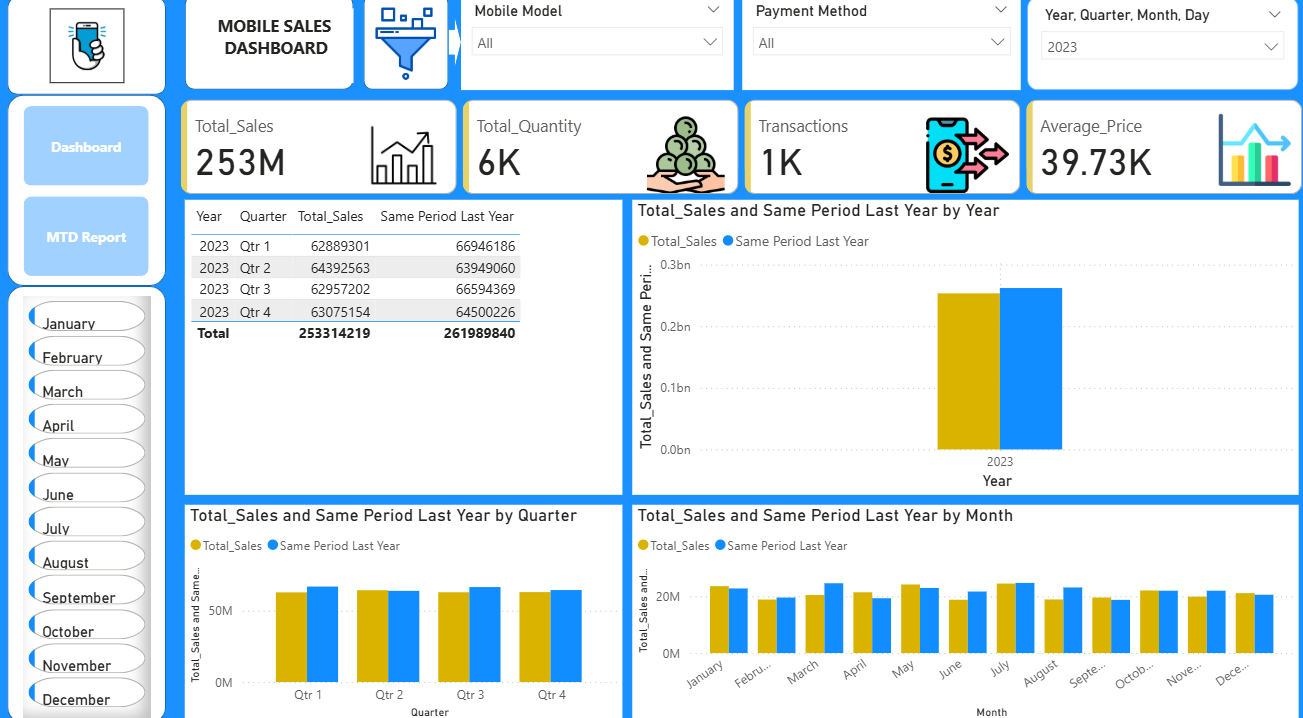

The dashboard page shown, as its layout file describes it:
{"tool":"powerbi","page":{"name":"Same Period Last Year","canvas":[1280,720],"ordinal":2},"visuals":[{"type":"shape","box":[15.7,10.9,153.2,94.1],"z":0},{"type":"image","box":[56.7,21.7,72.4,72.4],"z":1000},{"type":"shape","box":[15.7,105,153.2,184.6],"z":2000},{"type":"cardVisual","fields":{"Data":["Sales_Data.Total_Sales","Sales_Data.Total_Quantity","Sales_Data.Transactions","Sales_Data.Average_Price"]},"box":[178.6,105,1093,101.3],"z":3000},{"type":"slicer","fields":{"Values":["Sales_Data.Mobile Model"]},"box":[453.6,10.9,263,89.3],"z":4000},{"type":"slicer","fields":{"Values":["Sales_Data.Payment Method"]},"box":[725.1,10.9,269,89.3],"z":5000},{"type":"slicer","fields":{"Values":["Custom_Calendar.Date.Variation.Date Hierarchy.Year","Custom_Calendar.Date.Variation.Date Hierarchy.Quarter","Custom_Calendar.Date.Variation.Date Hierarchy.Month","Custom_Calendar.Date.Variation.Date Hierarchy.Day"]},"box":[1000.1,10.9,261.8,89.3],"z":6000},{"type":"shape","box":[359.5,8.4,82,91.7],"z":7000},{"type":"image","box":[359.5,10.9,82,89.3],"z":8000},{"type":"shape","box":[441.6,30.2,12.1,48.3],"z":9000},{"type":"shape","box":[187,8.4,162.9,91.7],"z":10000},{"type":"textbox","box":[200.3,21.7,149.6,72.4],"z":11000},{"type":"shape","box":[15.7,289.5,153.2,422.3],"z":13000},{"type":"advancedSlicerVisual","fields":{"Values":["Custom_Calendar.Date.Variation.Date Hierarchy.Month"]},"box":[31.4,299.2,123.1,412.6],"z":14000},{"type":"tableEx","fields":{"Values":["Custom_Calendar.Date.Variation.Date Hierarchy.Year","Custom_Calendar.Date.Variation.Date Hierarchy.Quarter","Sales_Data.Total_Sales","Sales_Data.Same Period Last Year"]},"box":[187,206.3,422.3,284.7],"z":14001},{"type":"clusteredColumnChart","fields":{"Category":["Custom_Calendar.Date.Variation.Date Hierarchy.Year","Custom_Calendar.Date.Variation.Date Hierarchy.Quarter"],"Y":["Sales_Data.Total_Sales","Sales_Data.Same Period Last Year"]},"box":[618.9,206.3,643,284.7],"z":14002},{"type":"clusteredColumnChart","fields":{"Y":["Sales_Data.Total_Sales","Sales_Data.Same Period Last Year"],"Category":["Custom_Calendar.Date.Variation.Date Hierarchy.Year","Custom_Calendar.Date.Variation.Date Hierarchy.Quarter","Custom_Calendar.Date.Variation.Date Hierarchy.Month","Custom_Calendar.Date.Variation.Date Hierarchy.Day"]},"box":[618.9,500.7,643,211.1],"z":14003},{"type":"clusteredColumnChart","fields":{"Category":["Custom_Calendar.Date.Variation.Date Hierarchy.Year","Custom_Calendar.Date.Variation.Date Hierarchy.Quarter"],"Y":["Sales_Data.Total_Sales","Sales_Data.Same Period Last Year"]},"box":[187,500.7,422.3,211.1],"z":14004},{"type":"pageNavigator","box":[31.4,115.8,121.9,164.1],"z":14005}]}

Visuals, with their boxes in screenshot pixels (x1, y1, x2, y2), scaled from the page's 1280x720 canvas onto the 1303x718 screenshot:
shape: bbox=(16, 11, 172, 105)
image: bbox=(58, 22, 131, 94)
shape: bbox=(16, 105, 172, 289)
cardVisual - Sales_Data.Total_Sales x Sales_Data.Total_Quantity: bbox=(182, 105, 1294, 206)
slicer - Sales_Data.Mobile Model: bbox=(462, 11, 729, 100)
slicer - Sales_Data.Payment Method: bbox=(738, 11, 1012, 100)
slicer - Custom_Calendar.Date.Variation.Date Hierarchy.Year x Custom_Calendar.Date.Variation.Date Hierarchy.Quarter: bbox=(1018, 11, 1285, 100)
shape: bbox=(366, 8, 449, 100)
image: bbox=(366, 11, 449, 100)
shape: bbox=(450, 30, 462, 78)
shape: bbox=(190, 8, 356, 100)
textbox: bbox=(204, 22, 356, 94)
shape: bbox=(16, 289, 172, 710)
advancedSlicerVisual - Custom_Calendar.Date.Variation.Date Hierarchy.Month: bbox=(32, 298, 157, 710)
tableEx - Custom_Calendar.Date.Variation.Date Hierarchy.Year x Custom_Calendar.Date.Variation.Date Hierarchy.Quarter: bbox=(190, 206, 620, 490)
clusteredColumnChart - Custom_Calendar.Date.Variation.Date Hierarchy.Year x Custom_Calendar.Date.Variation.Date Hierarchy.Quarter: bbox=(630, 206, 1285, 490)
clusteredColumnChart - Sales_Data.Total_Sales x Sales_Data.Same Period Last Year: bbox=(630, 499, 1285, 710)
clusteredColumnChart - Custom_Calendar.Date.Variation.Date Hierarchy.Year x Custom_Calendar.Date.Variation.Date Hierarchy.Quarter: bbox=(190, 499, 620, 710)
pageNavigator: bbox=(32, 115, 156, 279)
